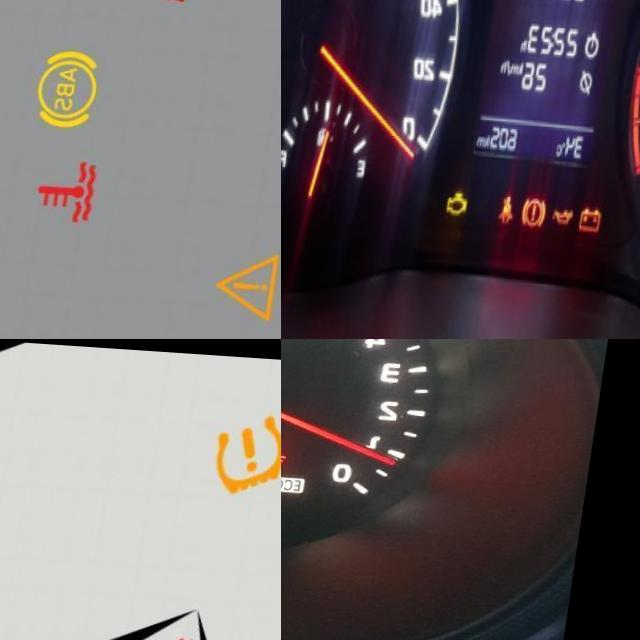Engine cooling system: (281, 435, 301, 458)
Seat Belt: (507, 187, 532, 226)
